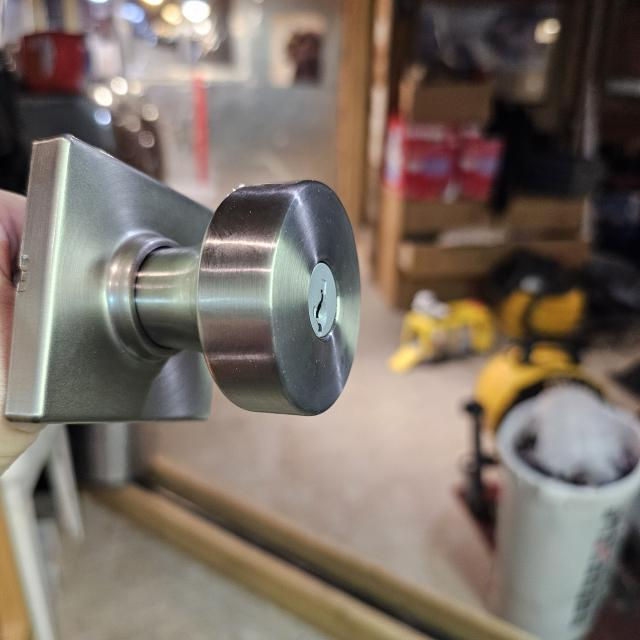door-knob: (6, 135, 360, 424)
